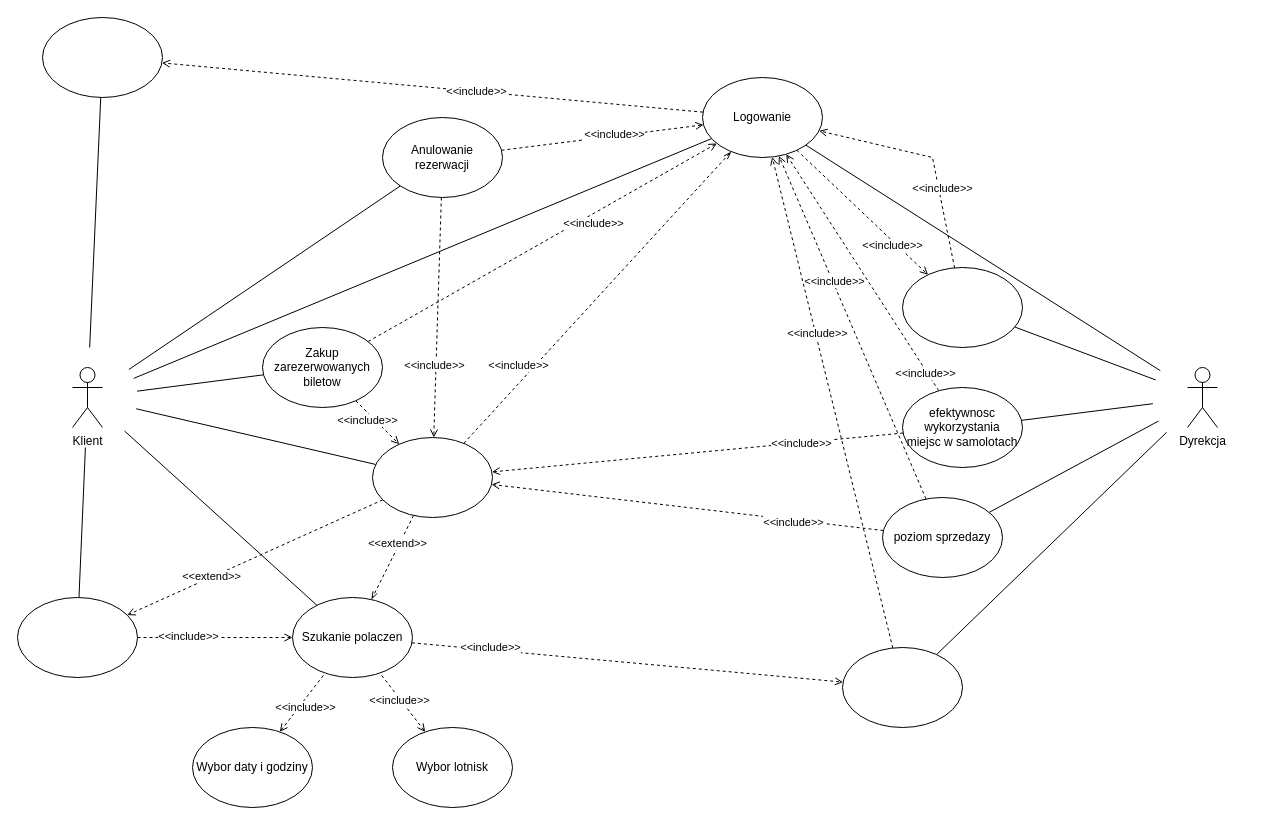
This 1270x825 diagram has some shape labels left out. The shapes that lost their labels are listed below. From the top down, each one's centre as x and y in pixels, then its label:
At (x=102, y=57): "Rejestracja".
At (x=962, y=307): "Zarzadzanie kontami".
At (x=432, y=477): "Rezerwacja biletow".
At (x=77, y=637): "Plan podrozy".
At (x=902, y=687): "Dodawanie/usuwanie nowych lotow".
